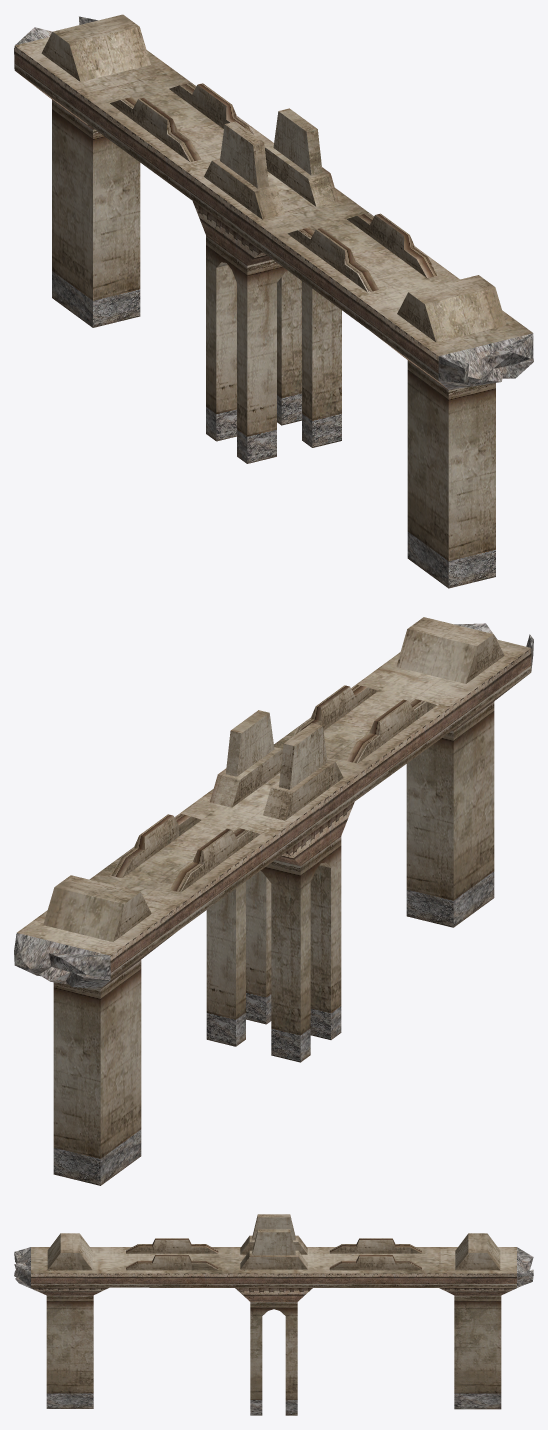
File: mogarch.glb
3 views of the same model, one above another, from view 1: azimuth 30°, elevation 25°; view 2: azimuth 150°, elevation 25°; view 3: azimuth 270°, elevation 25° (orthographic). The views are drawn at different scales.
Parts seen in each view (by area): view 1: _mogarch; view 2: _mogarch; view 3: _mogarch.
Boxes of the visible parts, left/top/right/bottom form: _mogarch: left=14, top=14, right=533, bottom=588; _mogarch: left=14, top=617, right=533, bottom=1185; _mogarch: left=14, top=1214, right=533, bottom=1415.
Bounding box in the file's own units: 4.01 × 12.56 × 33.15.
1 material, 1 textured.
